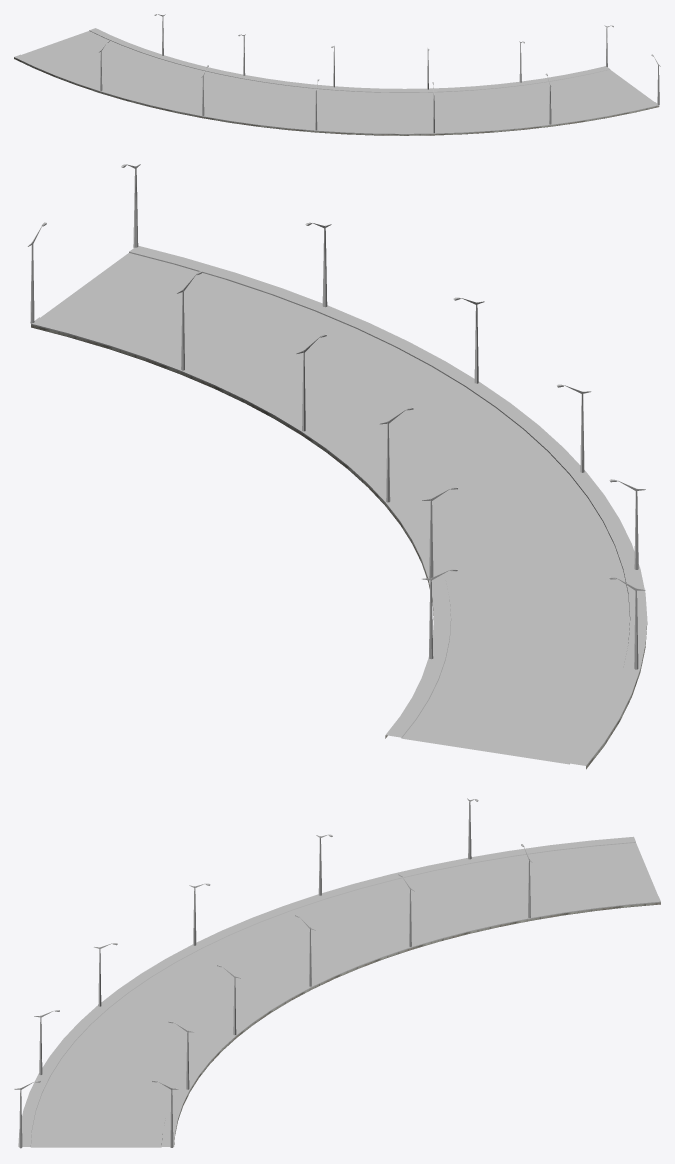
Rendered from Big_Road_80.FBX.
The picture shows the model from 3 angles, top to bottom: view 1: azimuth 30°, elevation 25°; view 2: azimuth 150°, elevation 25°; view 3: azimuth 270°, elevation 25°; orthographic projection. The views are drawn at different scales.
Parts seen in each view (by area): view 1: Big_Road_80, city_light015; view 2: Big_Road_80, city_light015; view 3: Big_Road_80, city_light015.
Boxes of the visible parts, x1,y1,x2,y2 form: Big_Road_80: (14, 28, 659, 135); city_light015: (98, 14, 660, 133); Big_Road_80: (31, 245, 647, 769); city_light015: (27, 164, 645, 669); Big_Road_80: (18, 836, 660, 1147); city_light015: (14, 798, 532, 1148).
Size of the model in its own units: 10692 by 1104 by 9409.
